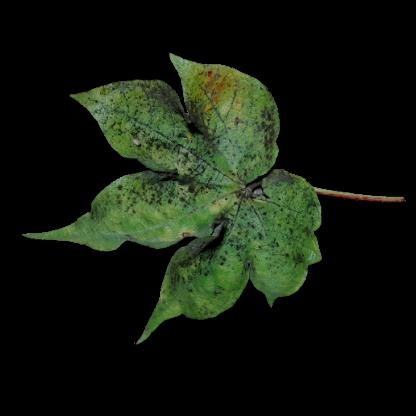curl_stage1: (82, 220, 140, 246)
sooty: (121, 101, 239, 209), (234, 172, 314, 268), (156, 228, 238, 301), (239, 89, 279, 167), (92, 84, 176, 120)
